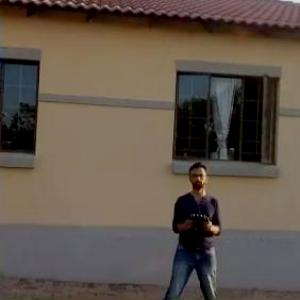follow: (156, 156, 224, 299)
